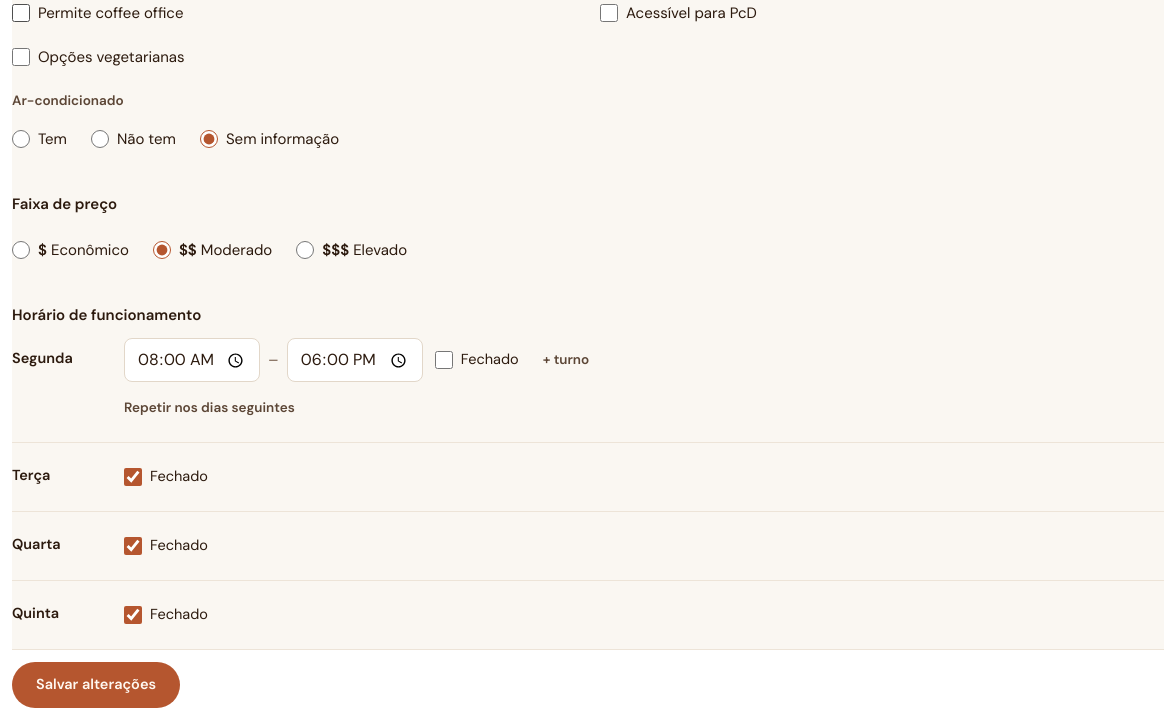
DadosCafeForm › 'Fechado' esconde os turnos do dia; desmarcar mostra de novo
(page scrolled)
Expected: the time field named "Segunda: abre" is shown, top-left (124, 338), bottom-right (260, 382)
Click the checkbox labelled "Fechado" in the row of "Segunda" at coordinates (444, 360), box top-left (435, 351), bottom-right (453, 369)
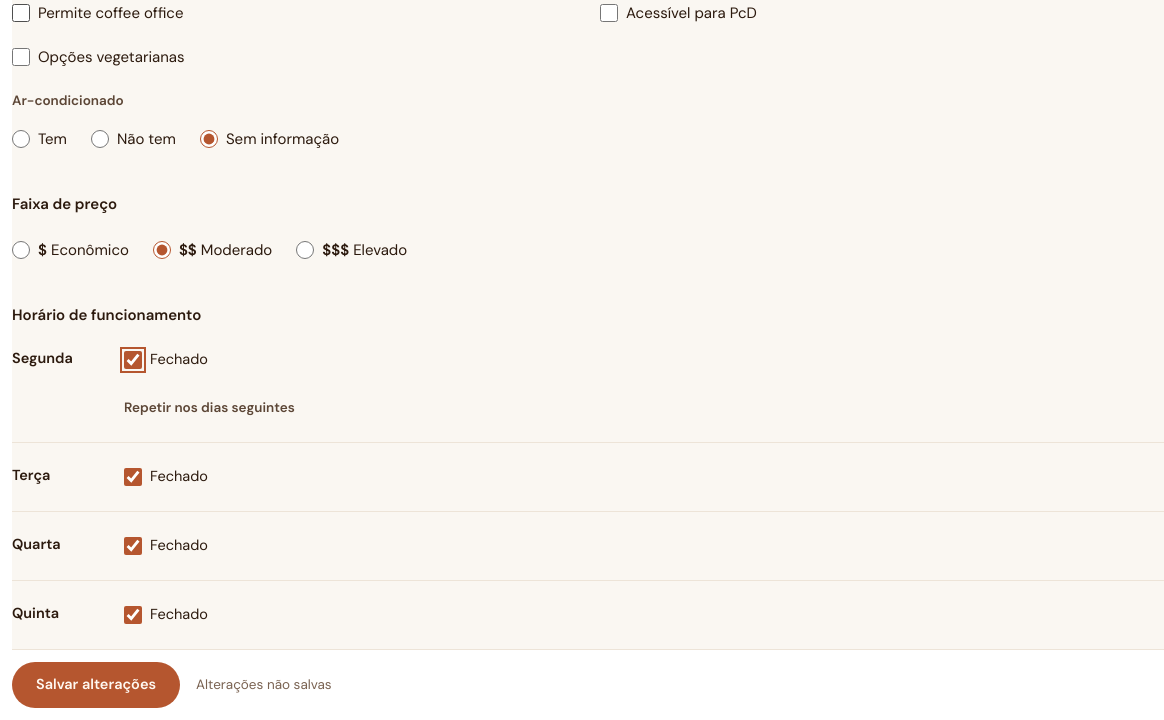
Click the checkbox labelled "Fechado" next to "Terça" at coordinates (133, 477), box top-left (124, 468), bottom-right (142, 486)
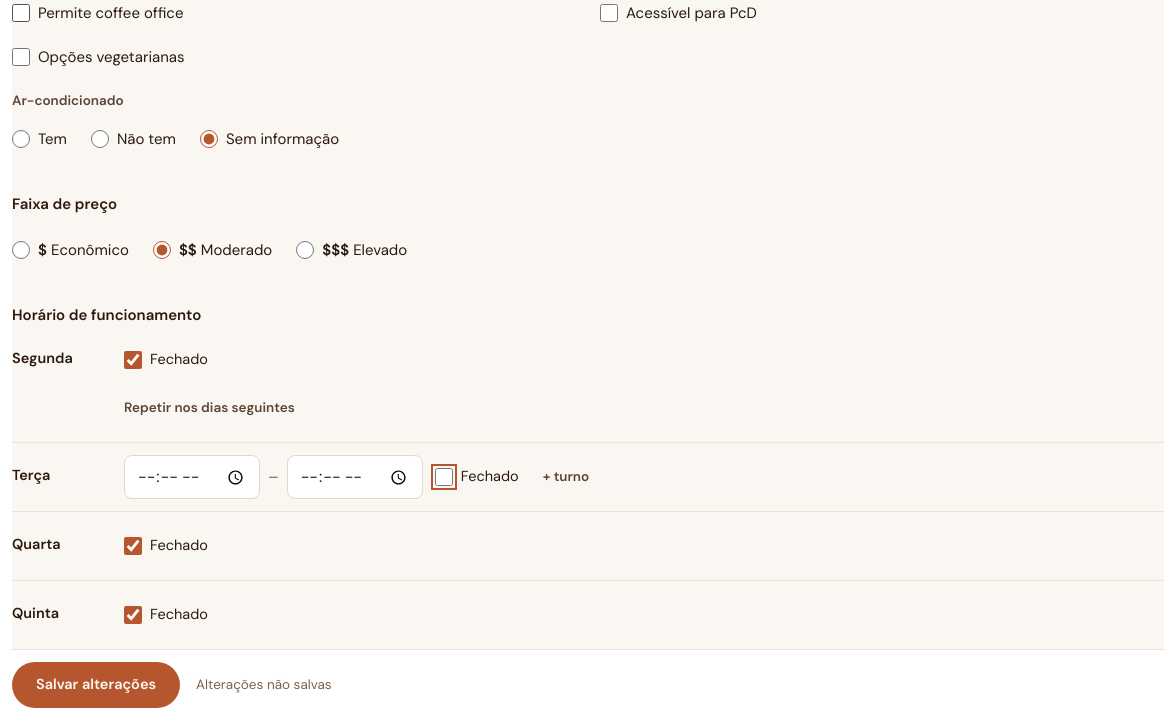
Expected: the time field named "Terça: abre" is shown, top-left (124, 455), bottom-right (260, 499)
